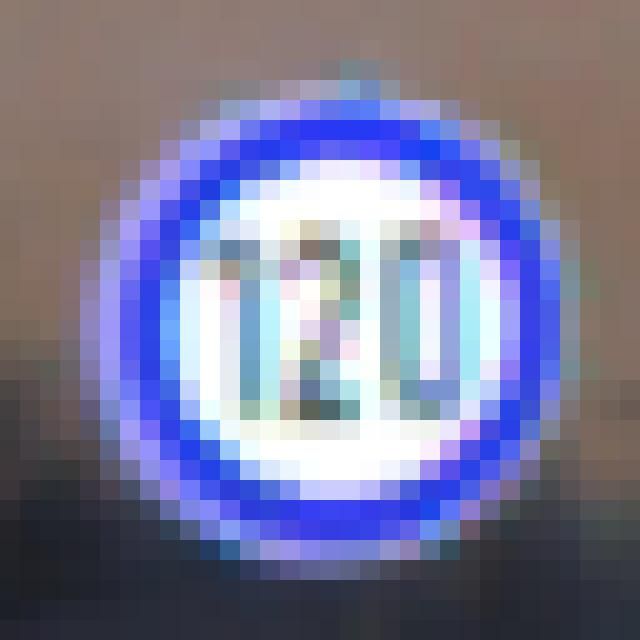SPEED LIMIT 120: (89, 101, 570, 560)
